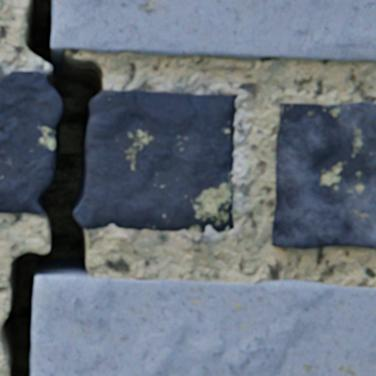brick: (32, 275, 375, 375), (51, 0, 375, 61), (271, 102, 375, 249)
broken_brick: (73, 90, 236, 232), (0, 72, 61, 214)
crack: (0, 0, 103, 375)
